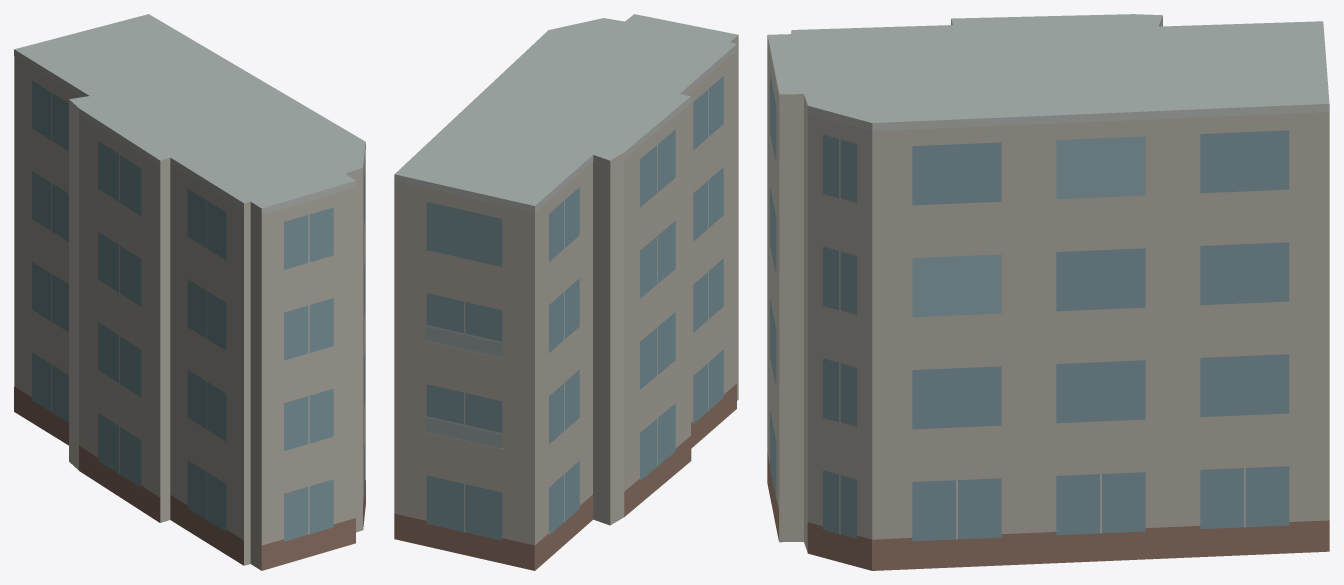
Rendered from survey-upis-32674110.glb.
The picture shows the model from 3 angles, left to right: view 1: azimuth 30°, elevation 25°; view 2: azimuth 150°, elevation 25°; view 3: azimuth 270°, elevation 25°; orthographic projection. The views are drawn at different scales.
Parts seen in each view (by area): view 1: survey-upis-32674110.tmp; view 2: survey-upis-32674110.tmp; view 3: survey-upis-32674110.tmp.
Part boxes in pixels (left/top/right/bottom): survey-upis-32674110.tmp: left=14, top=14, right=365, bottom=570; survey-upis-32674110.tmp: left=394, top=14, right=738, bottom=570; survey-upis-32674110.tmp: left=767, top=14, right=1329, bottom=570.
Bounding box in the file's own units: 7.06 × 13.5 × 15.37.
